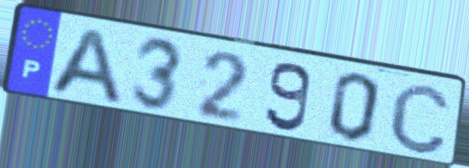0: (324, 70, 383, 146)
2: (197, 49, 250, 126)
3: (128, 33, 186, 117)
9: (264, 61, 314, 132)
A: (44, 26, 126, 108)
C: (385, 80, 453, 157)
